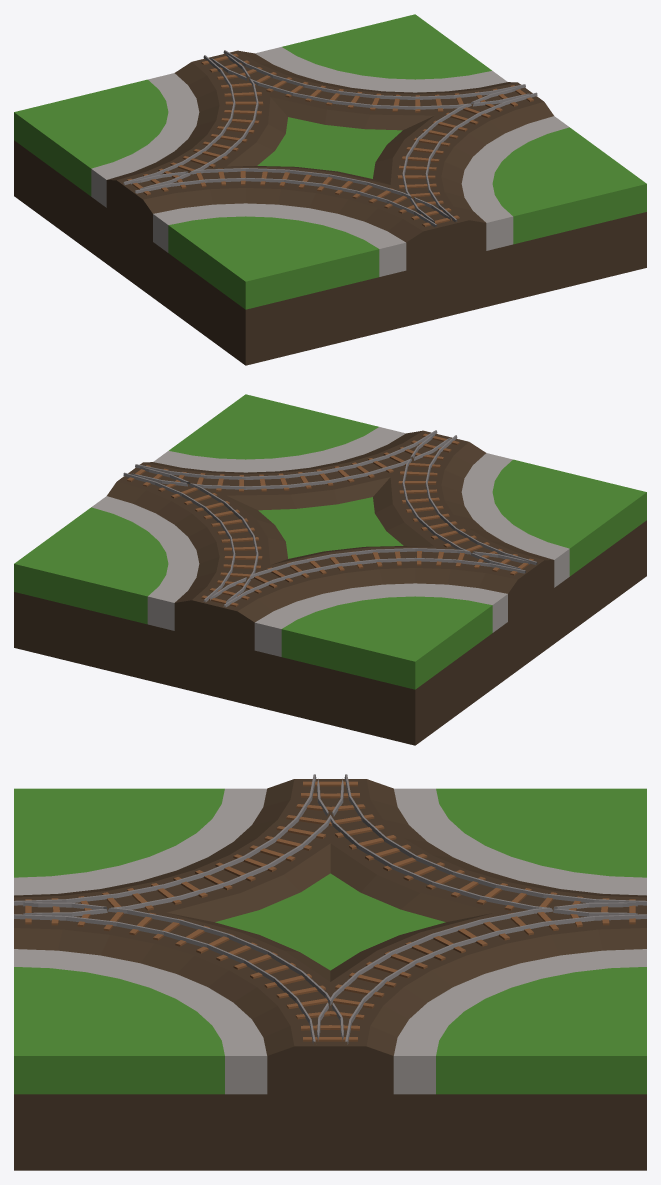
The model's file is tile-rail-intersection.glb.
The picture shows the model from 3 angles, top to bottom: view 1: azimuth 30°, elevation 25°; view 2: azimuth 150°, elevation 25°; view 3: azimuth 270°, elevation 25°; orthographic projection. The views are drawn at different scales.
Visible parts, largest first — view 1: tile-rail-intersection; view 2: tile-rail-intersection; view 3: tile-rail-intersection.
Part boxes in pixels (<box>): tile-rail-intersection: <box>14,14,646,365</box>; tile-rail-intersection: <box>14,394,646,745</box>; tile-rail-intersection: <box>14,774,646,1170</box>.
Bounding box in the file's own units: 30 × 6.75 × 30.
1 material, 1 textured.
